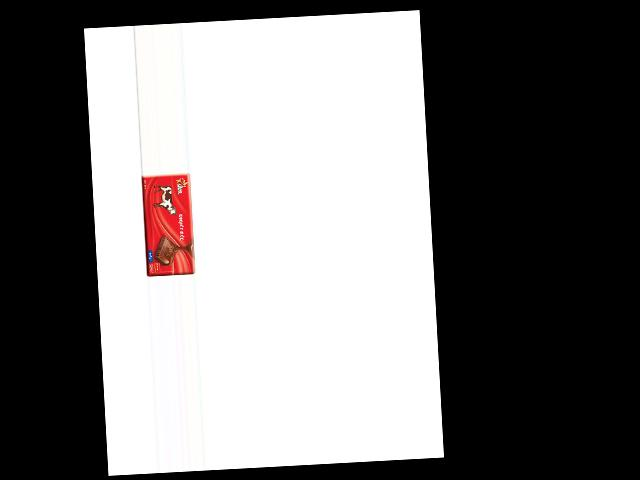chocolate: (141, 172, 195, 277)
